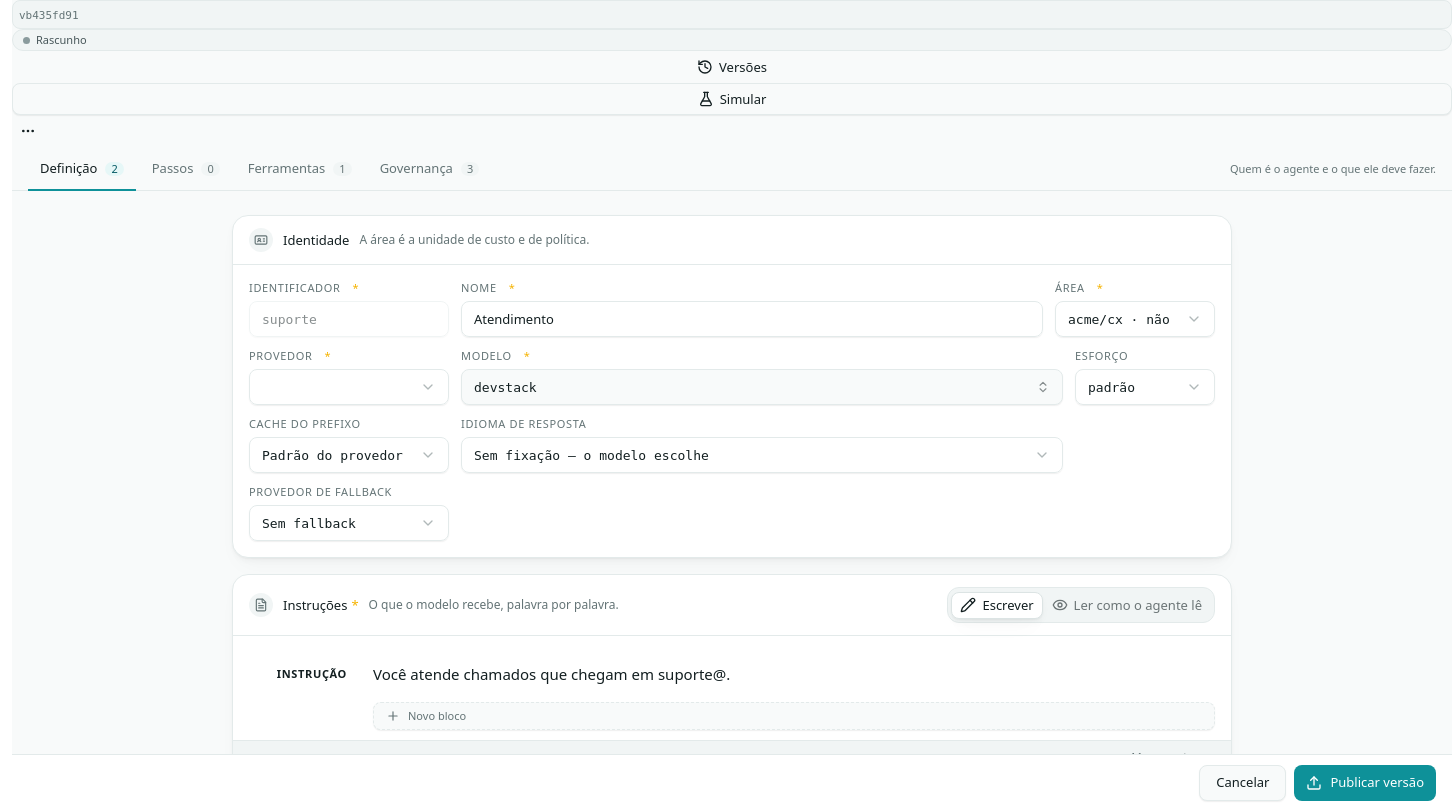
Scenario: the agent editor, control by control › adds a step and switches between the two views of it
The width and height of the screenshot is (1452, 810).
Click the tab "Passos 0" at (186, 168), box [140,146,232,190]
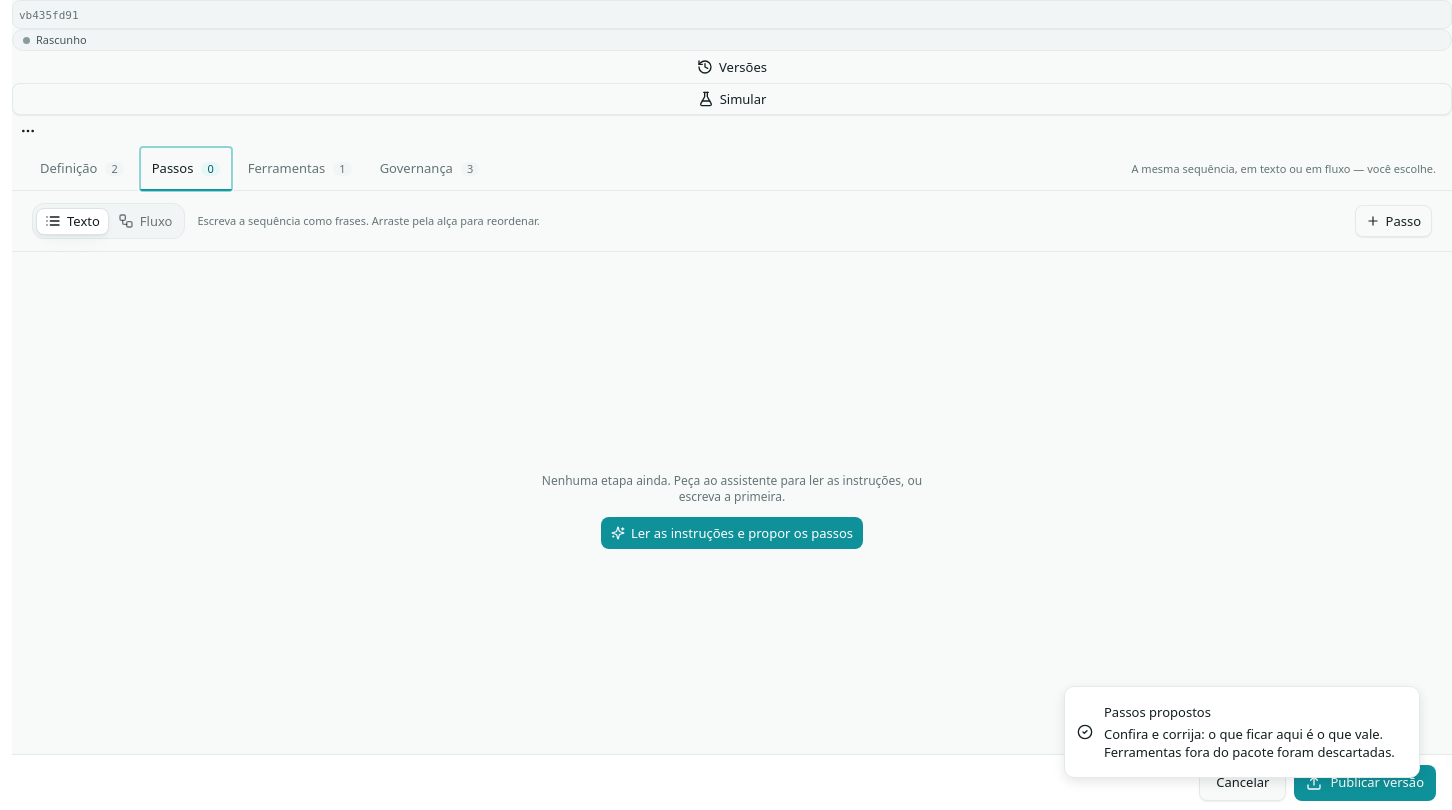
Click the button "Passo" at (1393, 221), box [1354,205,1432,237]
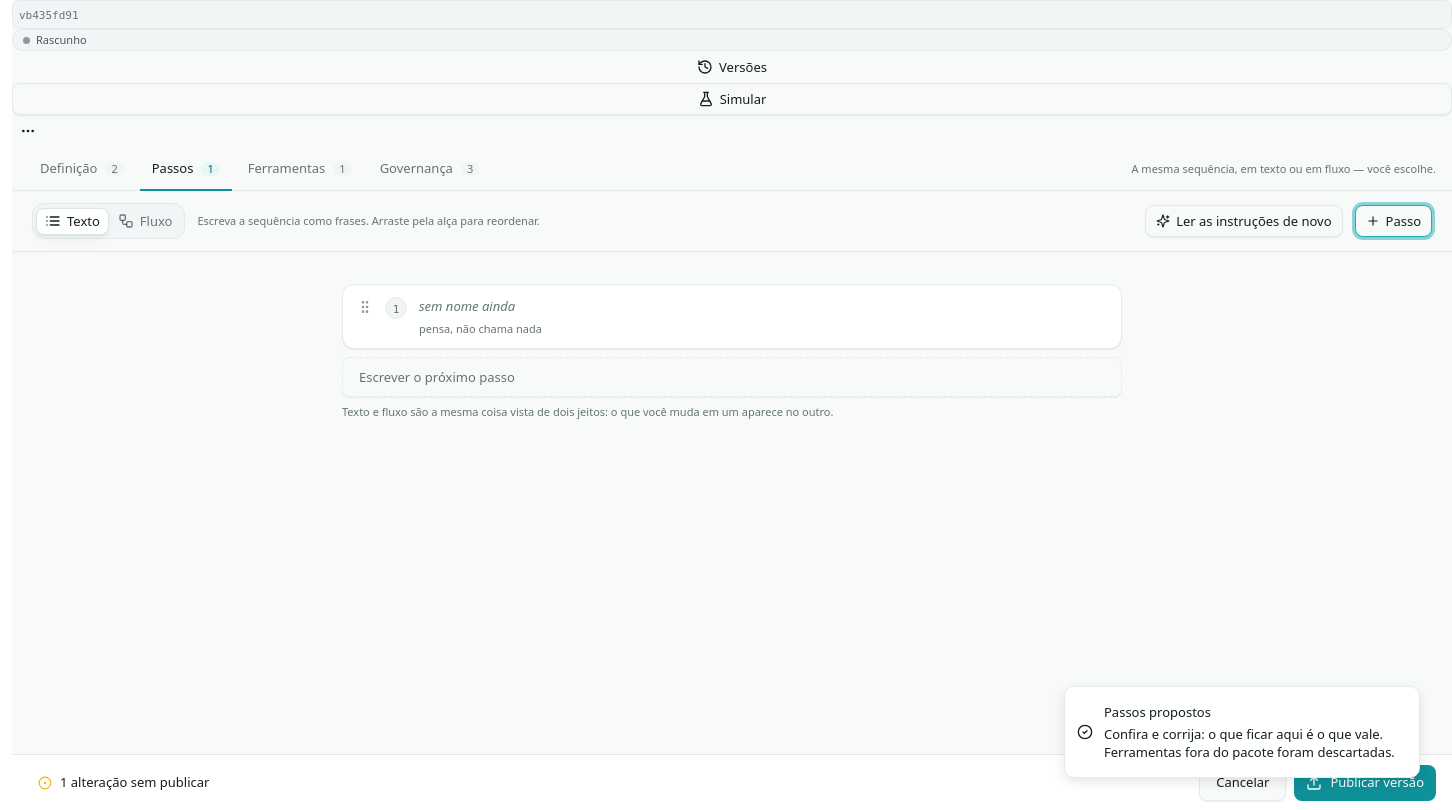
Click the tab "Fluxo" at (145, 221), box [109,208,181,234]
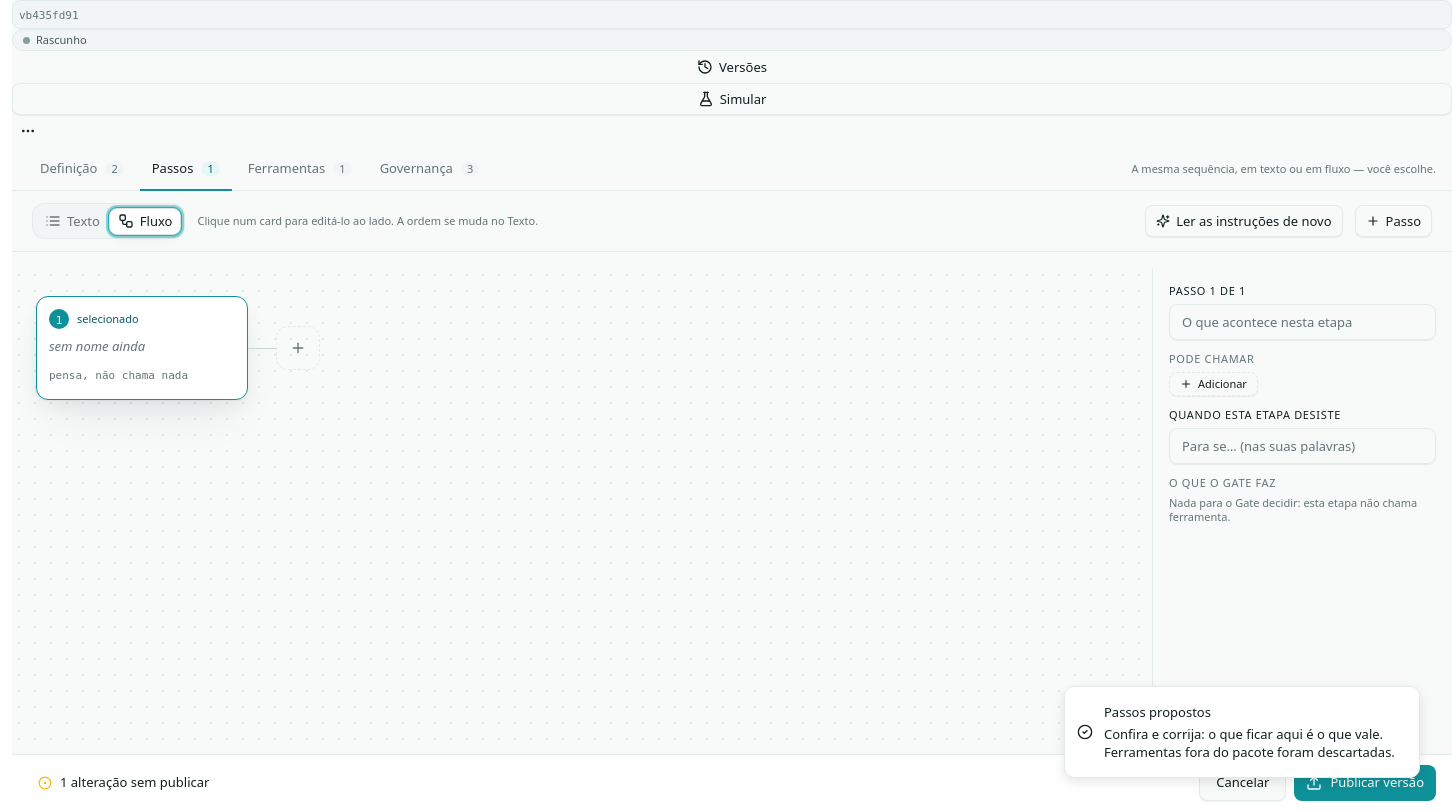
Result: the text "Passo 1 de 1" is shown at [1169,283,1246,298]
